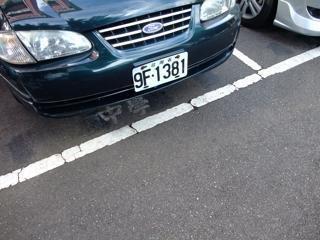plate: (130, 54, 189, 90)
